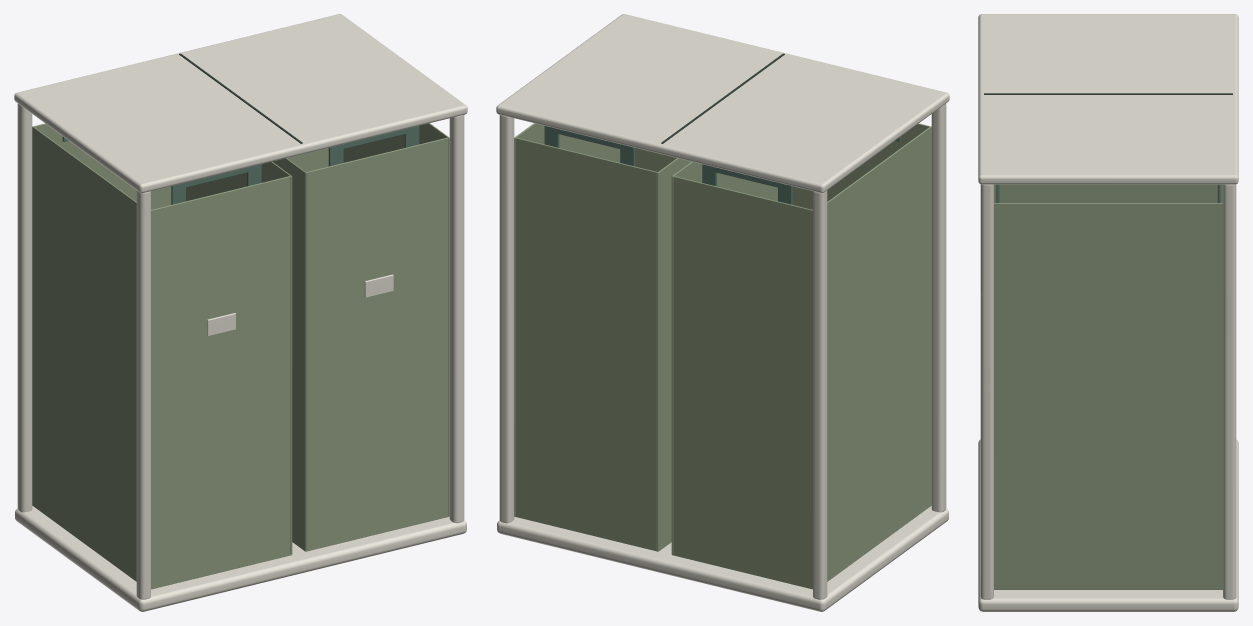
Rendered from laundry-sorter.glb.
3 views of the same model, side by side, from view 1: azimuth 30°, elevation 25°; view 2: azimuth 150°, elevation 25°; view 3: azimuth 270°, elevation 25° (orthographic). The views are drawn at different scales.
Parts seen in each view (by area): view 1: Woven removable bag front.001, Woven removable bag front, Lift-off split lid, Woven removable bag left, Frame base, Frame upright.002, Frame upright.001, Frame upright, Woven removable bag left.001, Woven removable bag right, Woven removable bag right.001, Woven removable bag back (+1 smaller); view 2: Woven removable bag back.001, Woven removable bag back, Lift-off split lid, Woven removable bag left, Frame base, Frame upright.003, Frame upright, Frame upright.001, Woven removable bag left.001, Woven removable bag right, Woven removable bag right.001, Woven removable bag front (+1 smaller); view 3: Woven removable bag right.001, Lift-off split lid, Frame base, Frame upright.002, Frame upright.003, Woven removable bag left.001, Lid split line.
Part boxes in pixels (box(x1,y1,x2,y2)): Woven removable bag front.001: box(306, 137, 448, 550); Woven removable bag front: box(151, 176, 290, 589); Lift-off split lid: box(14, 14, 467, 193); Woven removable bag left: box(32, 126, 136, 581); Frame base: box(15, 506, 466, 611); Frame upright.002: box(449, 115, 464, 523); Frame upright.001: box(17, 103, 32, 512); Frame upright: box(136, 190, 150, 599); Woven removable bag left.001: box(272, 158, 306, 551); Woven removable bag right: box(186, 161, 292, 554); Woven removable bag right.001: box(343, 123, 449, 515); Woven removable bag back: box(34, 123, 171, 209); Woven removable bag back.001: box(515, 137, 657, 550); Woven removable bag back: box(673, 176, 812, 589); Lift-off split lid: box(496, 14, 949, 193); Woven removable bag left: box(827, 126, 931, 581); Frame base: box(497, 506, 948, 611); Frame upright.003: box(499, 115, 514, 523); Frame upright: box(931, 103, 946, 512); Frame upright.001: box(813, 190, 827, 599); Woven removable bag left.001: box(657, 158, 691, 551); Woven removable bag right: box(671, 161, 777, 554); Woven removable bag right.001: box(514, 123, 620, 515); Woven removable bag front: box(792, 123, 929, 209); Woven removable bag right.001: box(994, 203, 1222, 589); Lift-off split lid: box(978, 14, 1238, 184); Frame base: box(978, 439, 1238, 611); Frame upright.002: box(980, 184, 993, 599); Frame upright.003: box(1223, 184, 1236, 599); Woven removable bag left.001: box(994, 184, 1222, 202); Lid split line: box(984, 93, 1232, 94).
Bounding box in the file's own units: 0.52 × 0.65 × 0.35.
